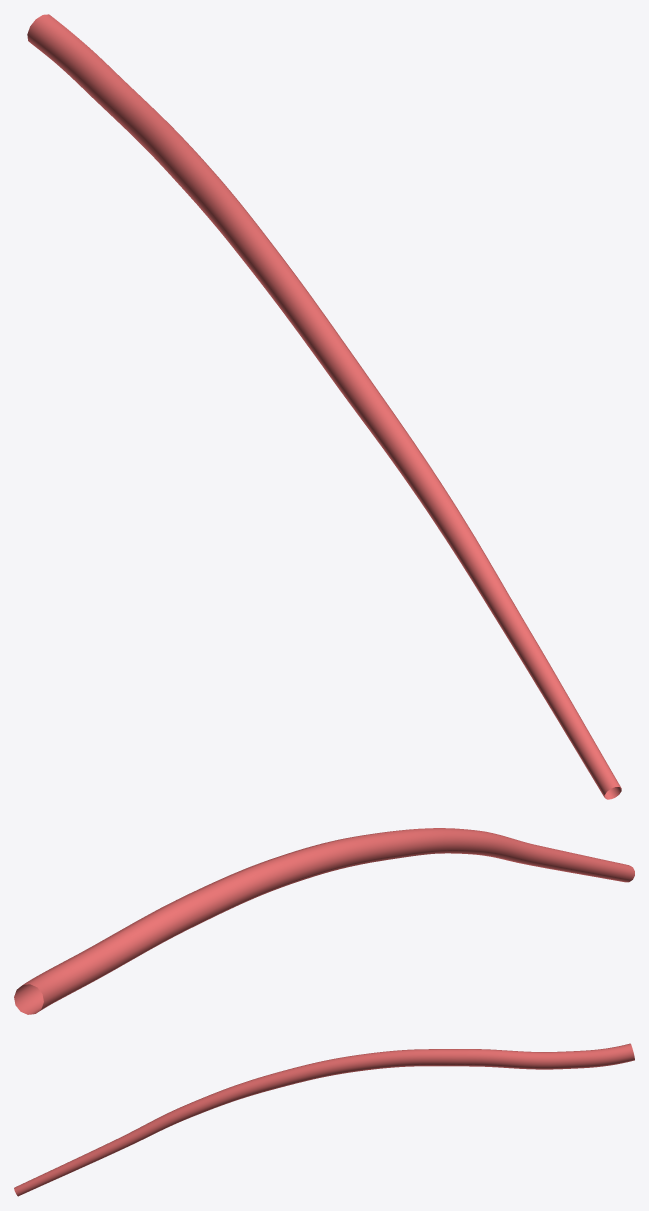
The model's file is Superficial_branch_of_medial_plantar_artery.r_BezierCurve.346.glb.
3 renders of one model, top to bottom at view 1: azimuth 30°, elevation 25°; view 2: azimuth 150°, elevation 25°; view 3: azimuth 270°, elevation 25°, orthographic. The views are drawn at different scales.
Parts seen in each view (by area): view 1: Superficial_branch_of_medial_plantar_artery.r_BezierCurve.34; view 2: Superficial_branch_of_medial_plantar_artery.r_BezierCurve.34; view 3: Superficial_branch_of_medial_plantar_artery.r_BezierCurve.34.
Boxes of the visible parts, x1,y1,x2,y2 form: Superficial_branch_of_medial_plantar_artery.r_BezierCurve.34: (27, 14, 621, 799); Superficial_branch_of_medial_plantar_artery.r_BezierCurve.34: (14, 828, 634, 1014); Superficial_branch_of_medial_plantar_artery.r_BezierCurve.34: (14, 1043, 634, 1196).
Size of the model in its own units: 0.00473 by 0.0184 by 0.0636.
